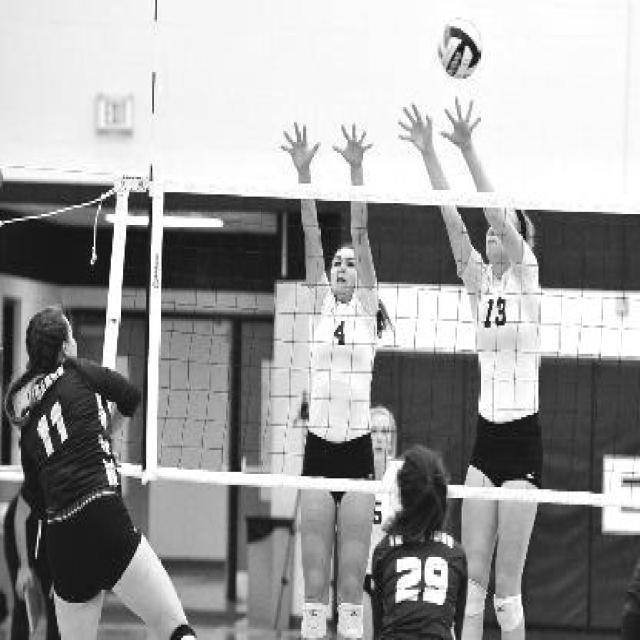volleyball: (438, 18, 482, 78)
